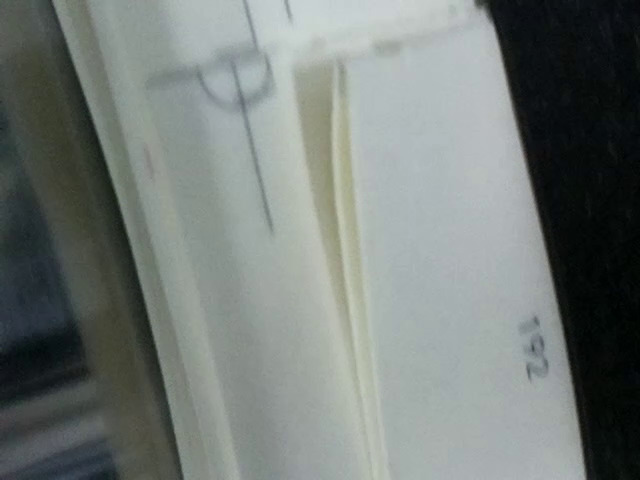misaligned: (143, 1, 283, 114)
